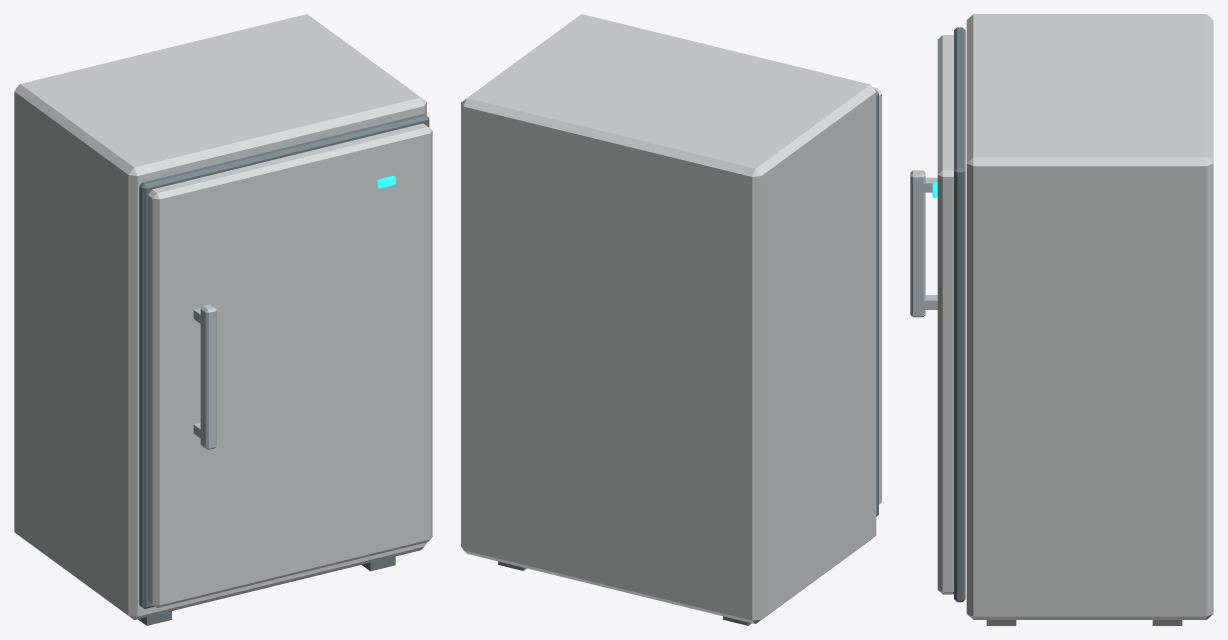
The model's file is fridge.glb.
The picture shows the model from 3 angles, left to right: view 1: azimuth 30°, elevation 25°; view 2: azimuth 150°, elevation 25°; view 3: azimuth 270°, elevation 25°; orthographic projection. The views are drawn at different scales.
Visible parts, largest first — view 1: fridge; view 2: fridge; view 3: fridge.
Boxes of the visible parts, bbox=[...] form: fridge: bbox=[14, 14, 432, 625]; fridge: bbox=[461, 14, 881, 625]; fridge: bbox=[910, 14, 1213, 625].
Bounding box in the file's own units: 0.414 × 0.62 × 0.356.
